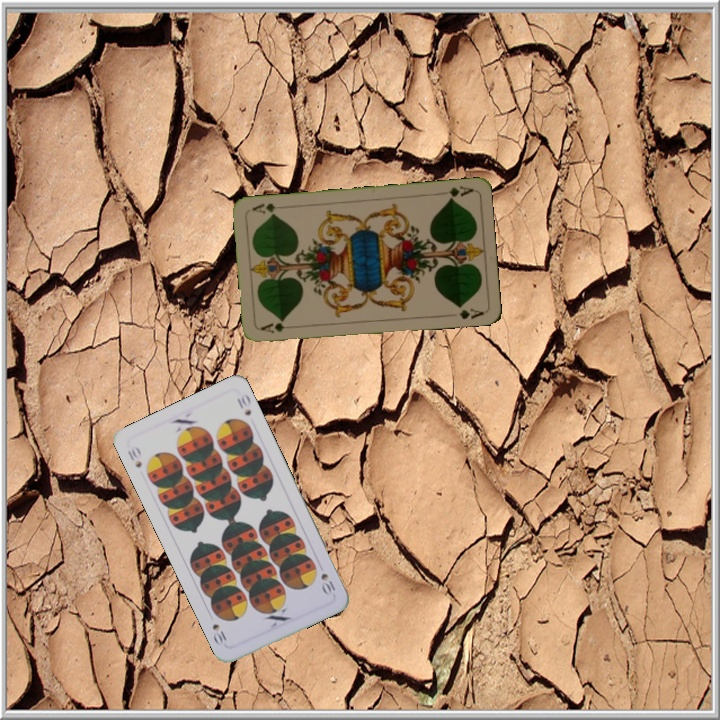GA: (435, 182, 475, 202), (257, 319, 297, 336)
S10: (123, 442, 144, 471), (317, 569, 338, 596)
